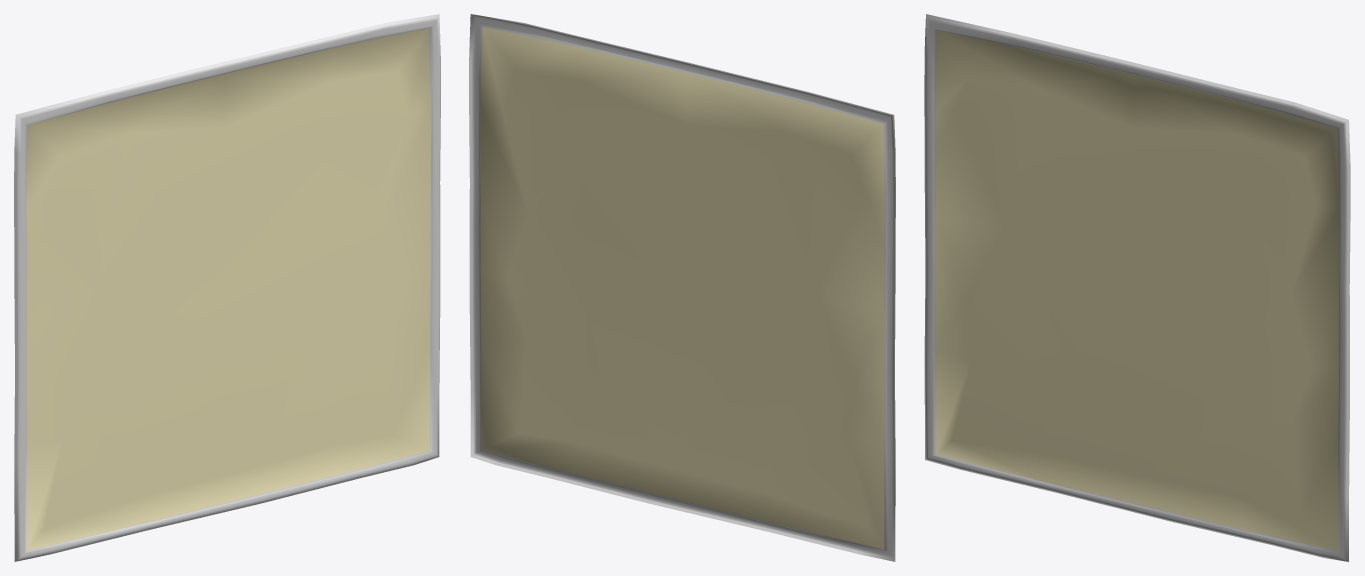
Rendered from ui_popup_background.glb.
3 views of the same model, side by side, from view 1: azimuth 30°, elevation 25°; view 2: azimuth 150°, elevation 25°; view 3: azimuth 330°, elevation 25° (orthographic).
Visible parts, largest first — view 1: Cube; view 2: Cube; view 3: Cube.
Part boxes in pixels (x1=…): Cube: x1=14, y1=14, x2=440, y2=561; Cube: x1=469, y1=14, x2=895, y2=561; Cube: x1=924, y1=14, x2=1350, y2=561.
Size of the model in its own units: 2.13 by 2.15 by 0.0135.
